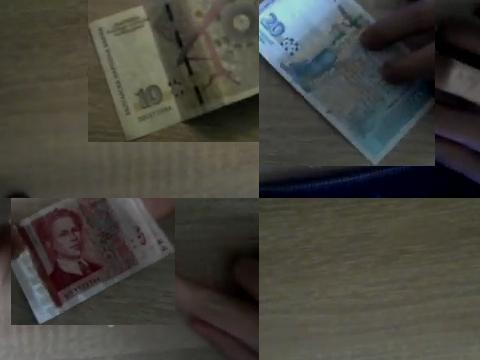20leva: (259, 0, 435, 166)
5leva: (11, 198, 175, 325)
